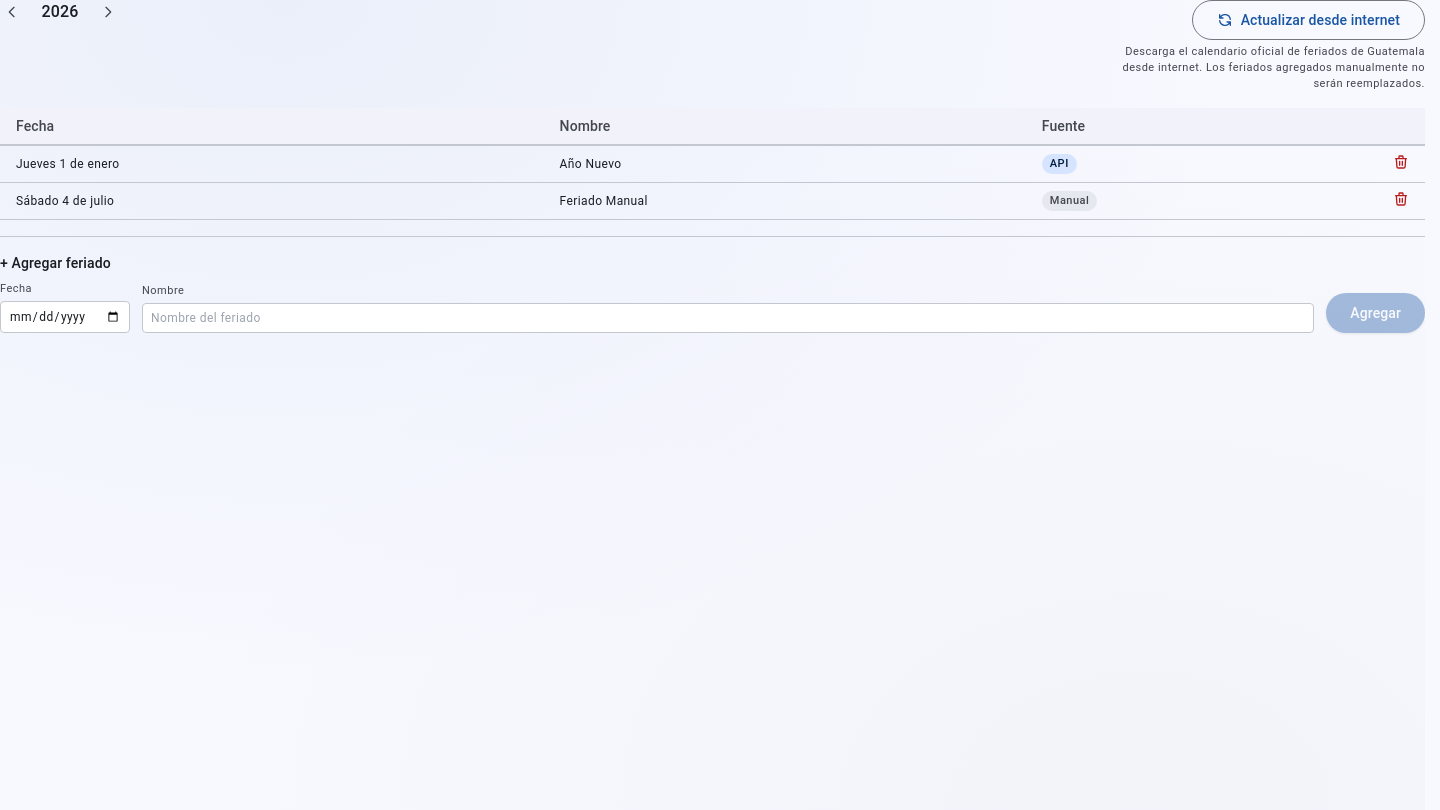
HolidaysTab delete › shows confirm modal when delete button is clicked
Expected: the text "Año Nuevo" is shown, [544,145,1026,182]
Click the button named "eliminar feriado" in the row of "Jueves 1 de enero" at (1401, 162), box [1393,154,1409,170]
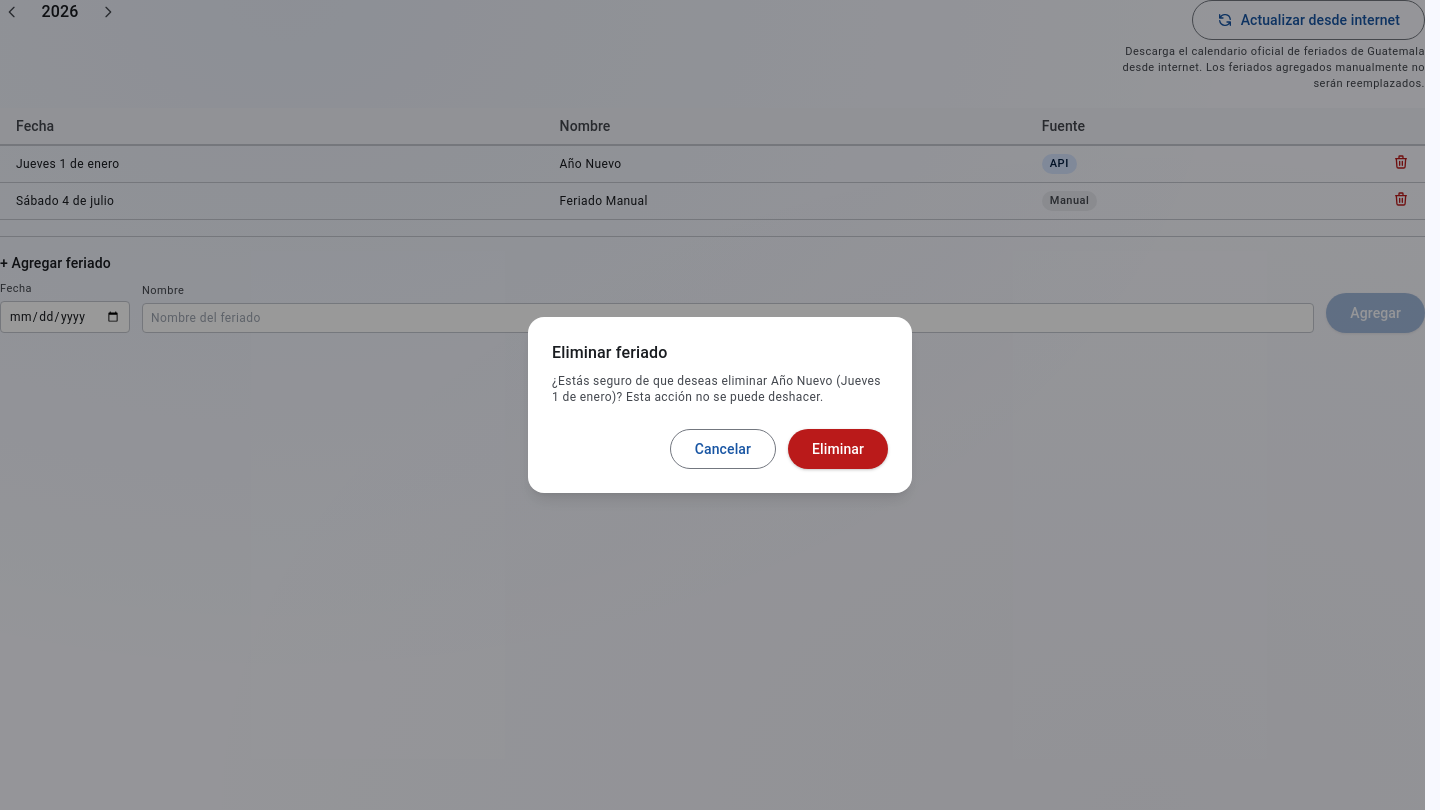
Result: the text "Estás seguro" is shown at [552,374,881,404]
